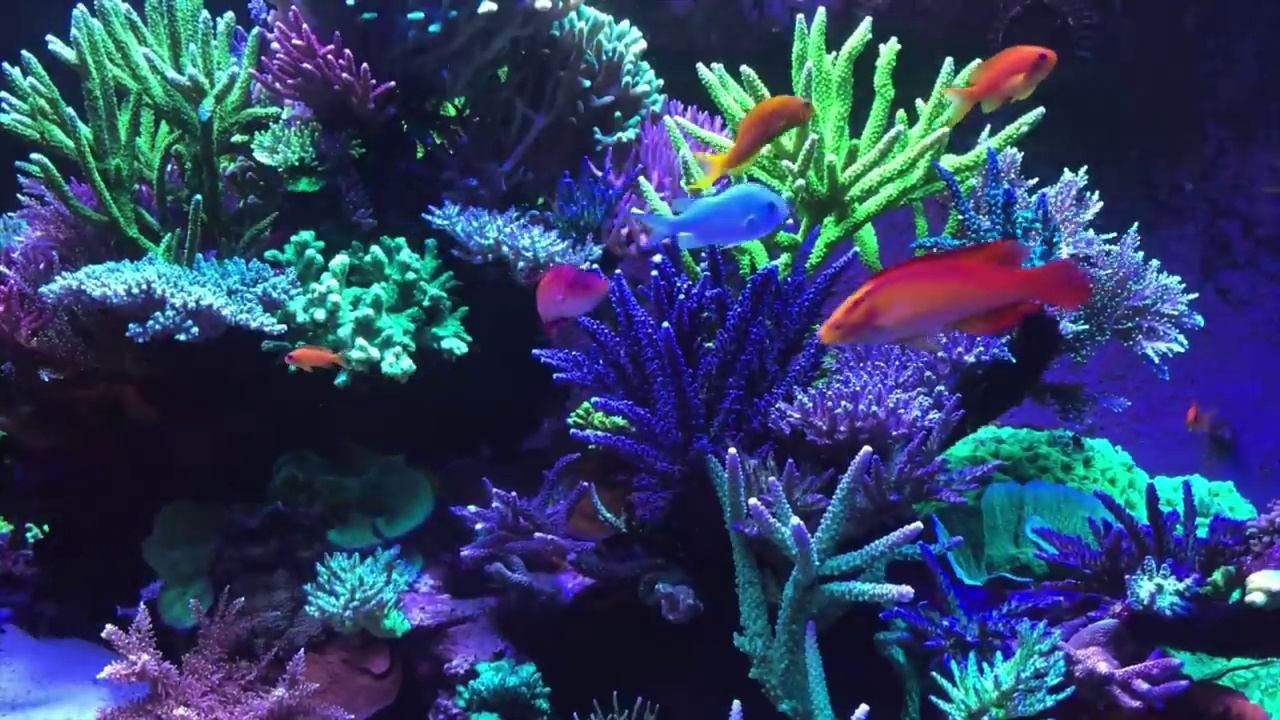fish: (820, 241, 1092, 357), (628, 177, 787, 258), (696, 94, 817, 184), (939, 44, 1057, 123), (535, 260, 617, 329), (284, 342, 348, 374), (1185, 402, 1216, 437)
